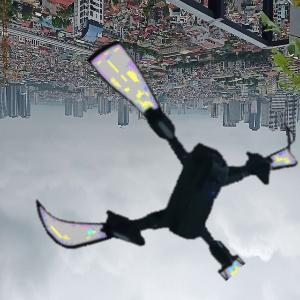drone: (29, 38, 290, 299)
